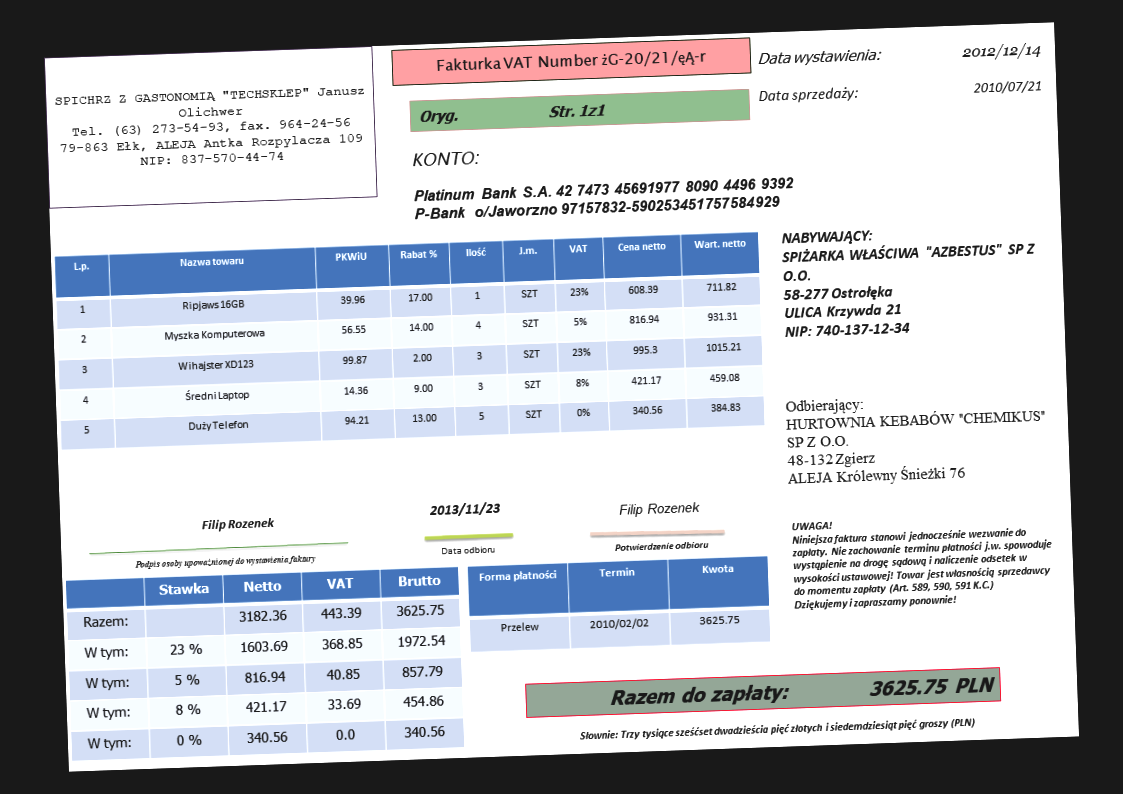Table: (53, 230, 767, 451), (63, 565, 465, 762), (466, 553, 773, 655)
TextBox: (779, 221, 1042, 342), (53, 81, 367, 173), (790, 510, 1055, 612), (783, 390, 1048, 487), (411, 173, 800, 226), (607, 671, 996, 711), (576, 715, 978, 745), (433, 45, 710, 77), (418, 100, 608, 127), (133, 551, 318, 571), (754, 45, 885, 68), (755, 85, 861, 107), (615, 497, 703, 519), (960, 41, 1043, 62), (612, 539, 711, 555), (200, 513, 275, 534), (426, 499, 501, 520), (970, 76, 1044, 97), (410, 149, 481, 170), (436, 542, 496, 559)
